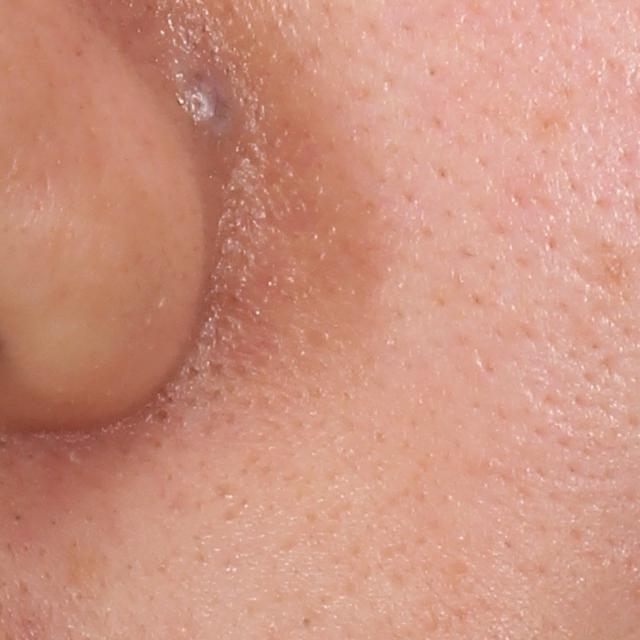comedo: (149, 405, 176, 430)
other: (162, 39, 252, 140)
